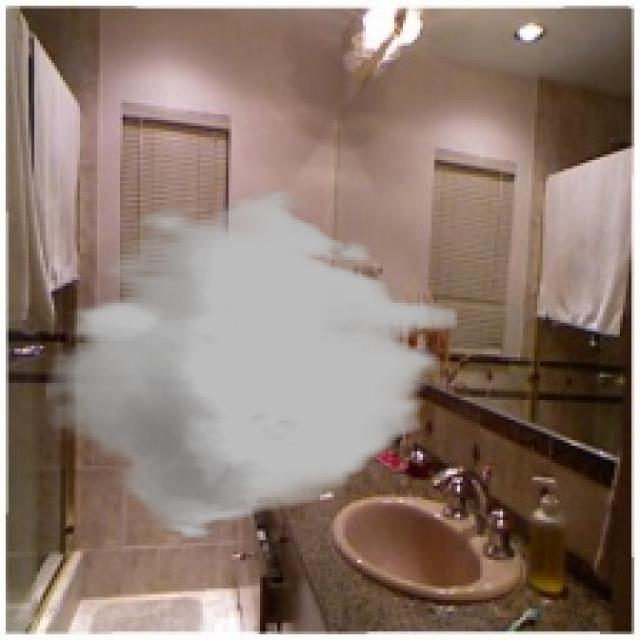smoke: (46, 189, 457, 540)
